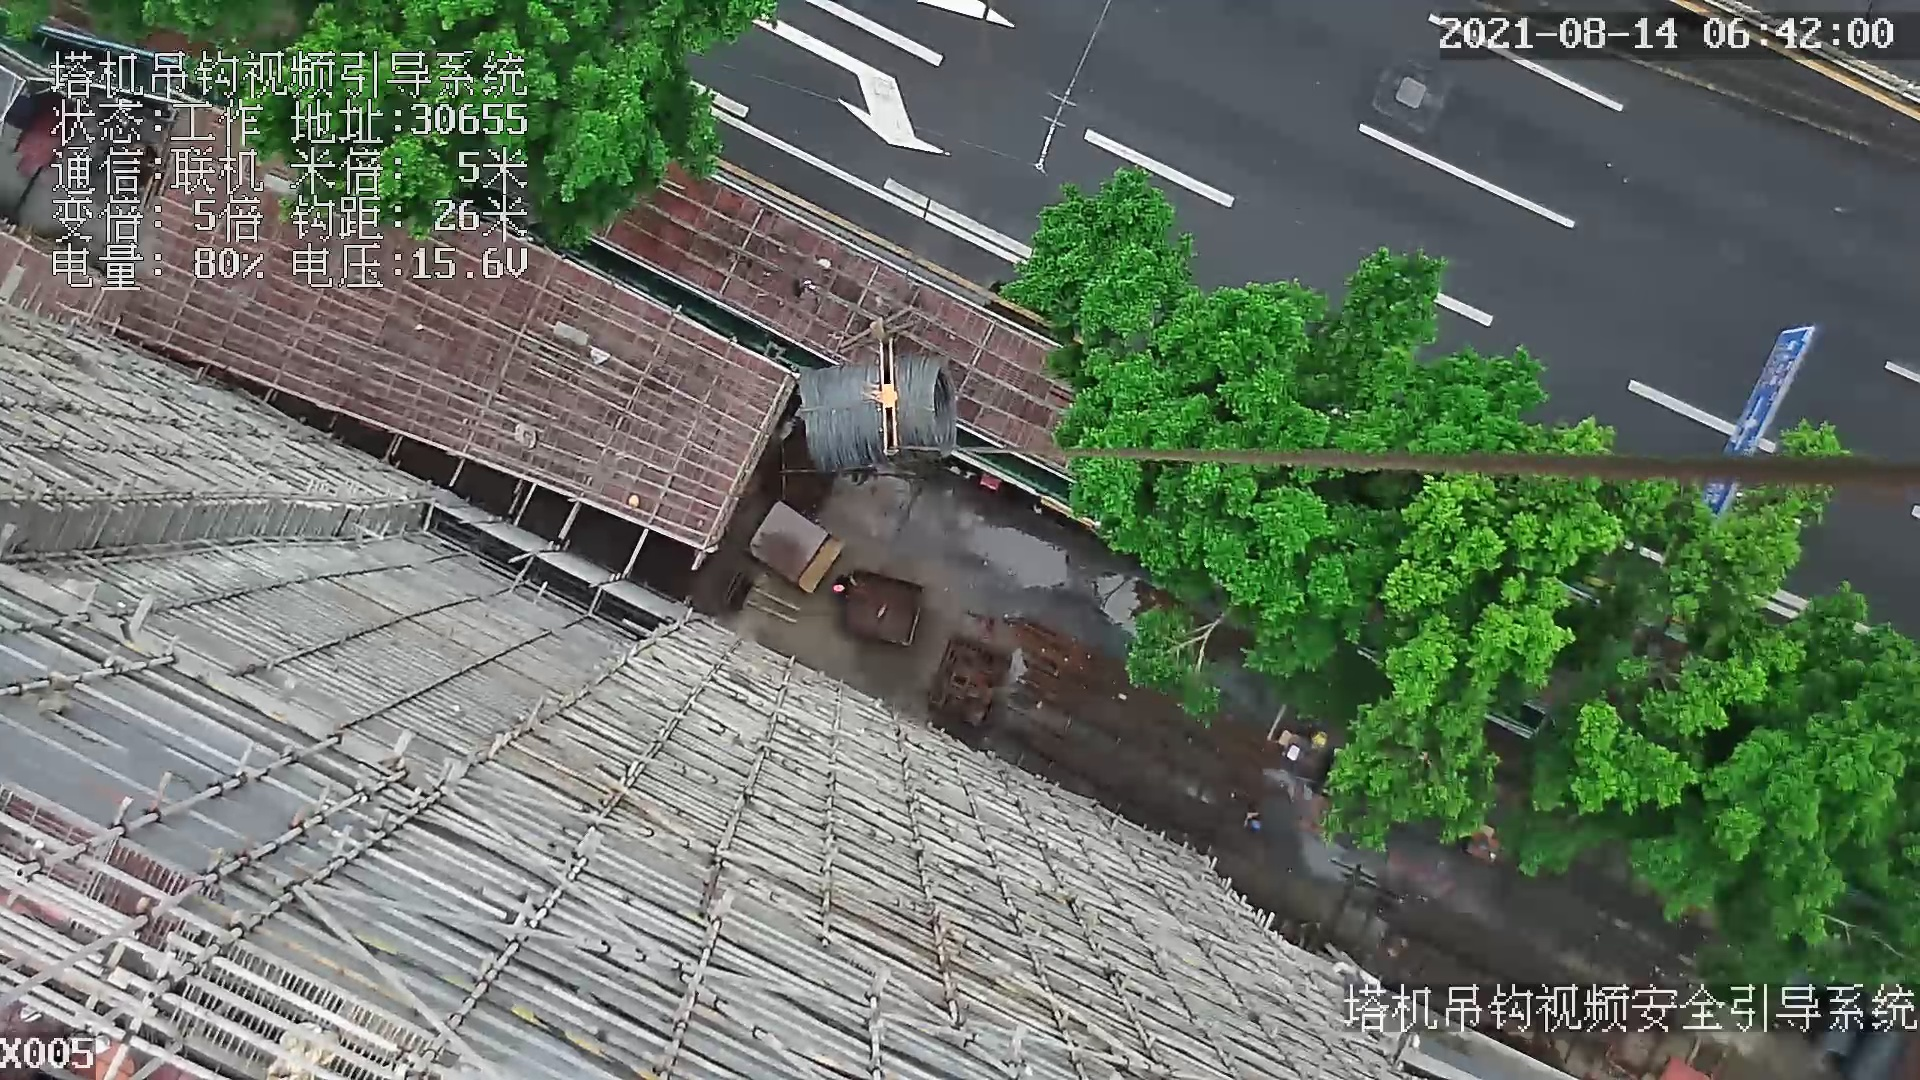hook: (856, 336, 901, 455)
person: (831, 575, 857, 596)
